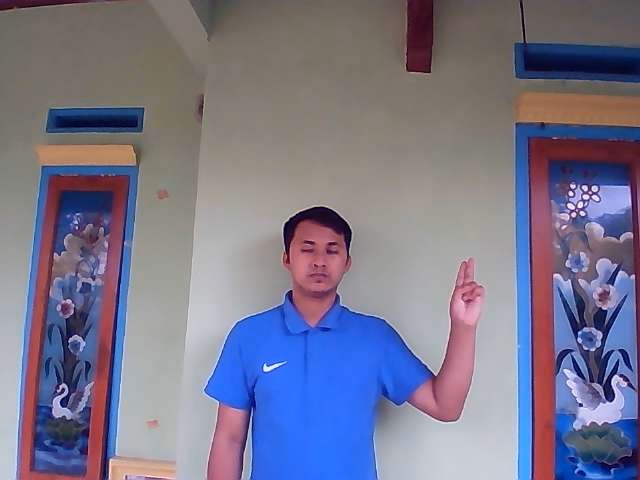U: (449, 255, 485, 326)
